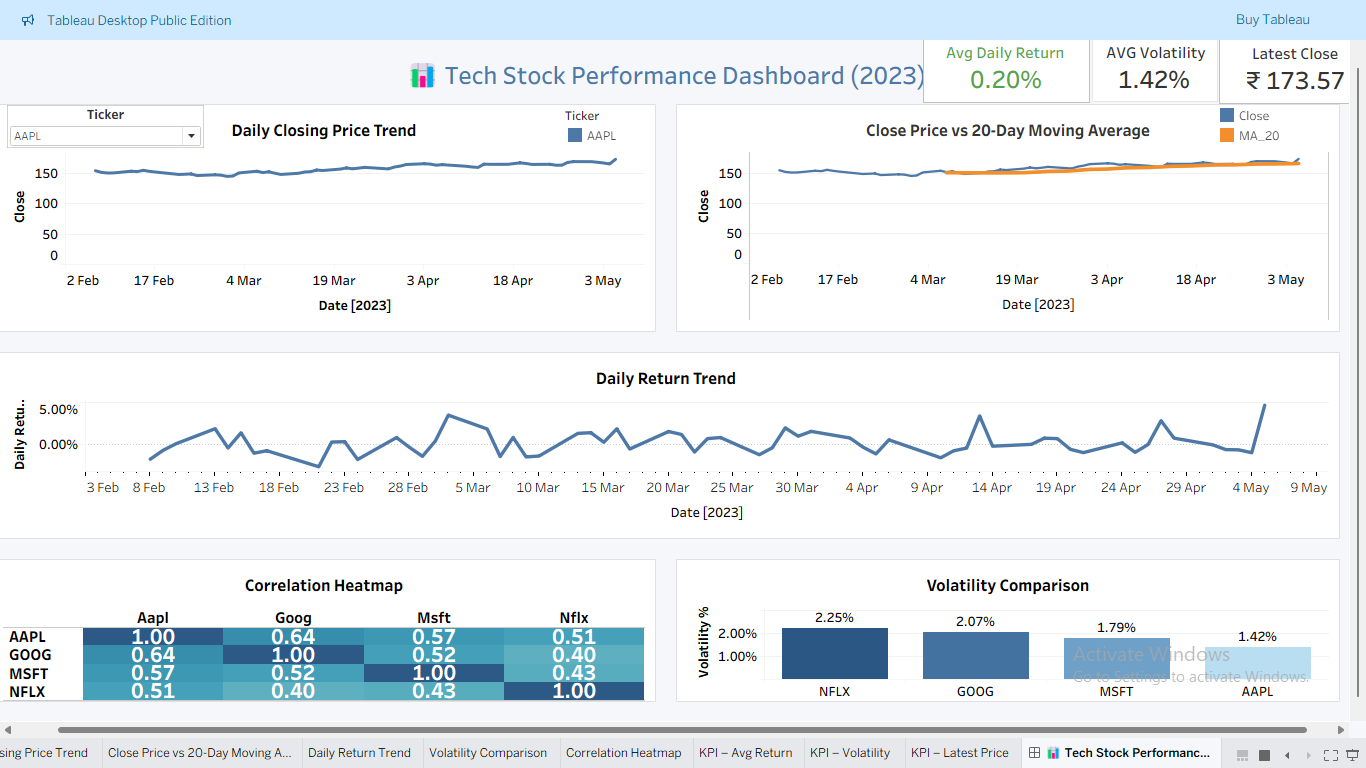

The dashboard page shown, as its layout file describes it:
{"tool":"tableau","page":{"name":"📊 Tech Stock Performance Dashboard (2023)","canvas":[1000,1000],"units":"permille","ordinal":0},"visuals":[{"type":"worksheet","title":"KPI – Avg Return","mark":"Automatic","box":[681,11.4,119,95.7]},{"type":"worksheet","title":"KPI – Volatility ","mark":"Automatic","box":[800,12.9,88.7,94.3]},{"type":"title","box":[18.3,37.1,963.4,57.1]},{"type":"worksheet","title":"Daily Closing Price Trend","mark":"Line","rows":["Close"],"cols":["Date"],"box":[18.3,94.3,481.7,354.3]},{"type":"worksheet","title":"Close Price vs 20-Day Moving Average","mark":"Line","rows":["Close","MA_20"],"cols":["Date"],"box":[500,94.3,481.7,354.3]},{"type":"filter","title":"Close Price vs 20-Day Moving Average","param":"[federated.06obs0t0fifz5q1c4ge5w0dly3rs].[none:Ticker:nk]","box":[50,110,138.7,61.4]},{"type":"legend","title":"Close Price vs 20-Day Moving Average","param":"[federated.06obs0t0fifz5q1c4ge5w0dly3rs].[:Measure Names]","box":[888,110,85.9,58.6]},{"type":"legend","title":"Daily Closing Price Trend","param":"[federated.06obs0t0fifz5q1c4ge5w0dly3rs].[none:Ticker:nk]","box":[428.9,112.9,65.5,55.7]},{"type":"worksheet","title":"Daily Return Trend","mark":"Line","rows":["Daily_Return"],"cols":["Date"],"box":[18.3,448.6,963.4,295.7]},{"type":"worksheet","title":"Correlation Heatmap","mark":"Square","rows":["Ticker"],"cols":["Pivot Field Names"],"box":[18.3,744.3,481.7,218.6]},{"type":"worksheet","title":"Volatility Comparison","mark":"Bar","rows":["Calculation_1467336325128192"],"cols":["Ticker"],"box":[500,744.3,481.7,218.6]}]}

Visuals, with their boxes on the dashboard's canvas, which has no fixed pixel size, in thousandths of its width and height (x1, y1, x2, y2). These are canvas units, not pixel positions in the 1366x768 screenshot, which may show the page scaled, cropped or inside an application window:
"KPI – Avg Return" worksheet: x1=681 y1=11 x2=800 y2=107
"KPI – Volatility " worksheet: x1=800 y1=13 x2=889 y2=107
title: x1=18 y1=37 x2=982 y2=94
"Daily Closing Price Trend" worksheet (Line marks): x1=18 y1=94 x2=500 y2=449
"Close Price vs 20-Day Moving Average" worksheet (Line marks): x1=500 y1=94 x2=982 y2=449
"Close Price vs 20-Day Moving Average" filter: x1=50 y1=110 x2=189 y2=171
"Close Price vs 20-Day Moving Average" legend: x1=888 y1=110 x2=974 y2=169
"Daily Closing Price Trend" legend: x1=429 y1=113 x2=494 y2=169
"Daily Return Trend" worksheet (Line marks): x1=18 y1=449 x2=982 y2=744
"Correlation Heatmap" worksheet (Square marks): x1=18 y1=744 x2=500 y2=963
"Volatility Comparison" worksheet (Bar marks): x1=500 y1=744 x2=982 y2=963
